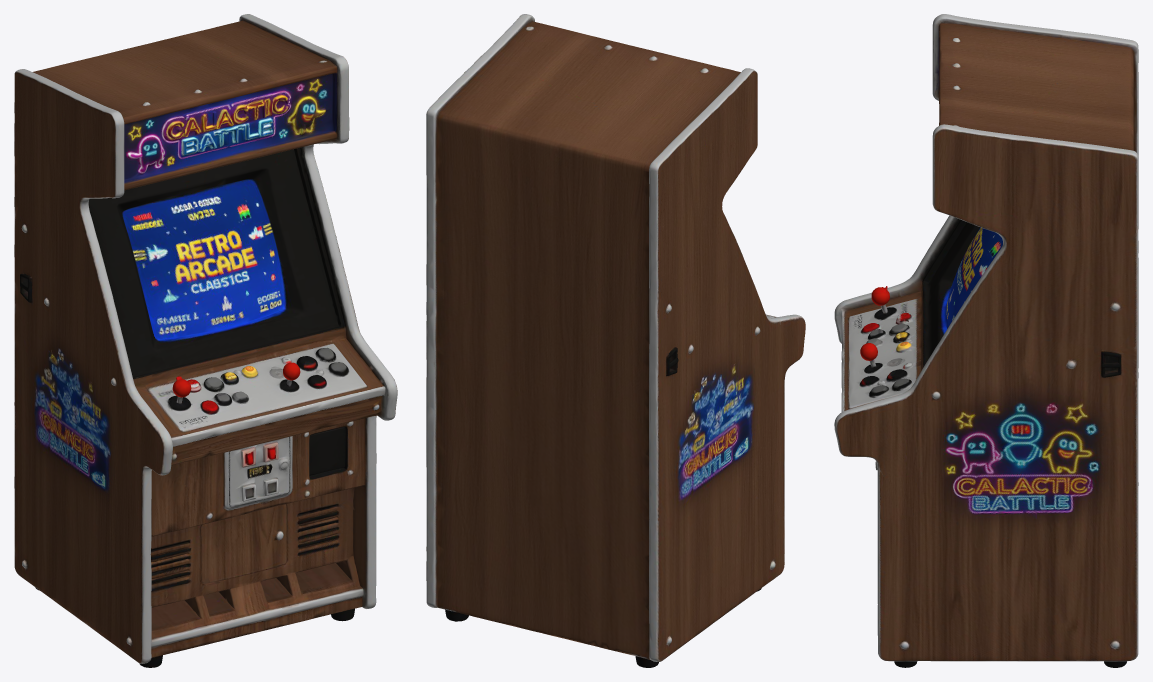
File: ArcadeCabinet.fbx
3 renders of one model, left to right at view 1: azimuth 30°, elevation 25°; view 2: azimuth 150°, elevation 25°; view 3: azimuth 270°, elevation 25°, orthographic.
Visible parts, largest first — view 1: tripo_node_597b9cd4; view 2: tripo_node_597b9cd4; view 3: tripo_node_597b9cd4.
Part boxes in pixels (box(x1,y1,x2,y2)): tripo_node_597b9cd4: box(14, 14, 397, 667); tripo_node_597b9cd4: box(426, 14, 805, 667); tripo_node_597b9cd4: box(834, 14, 1138, 667).
Bounding box in the file's own units: 0.4654 × 1 × 0.505.
